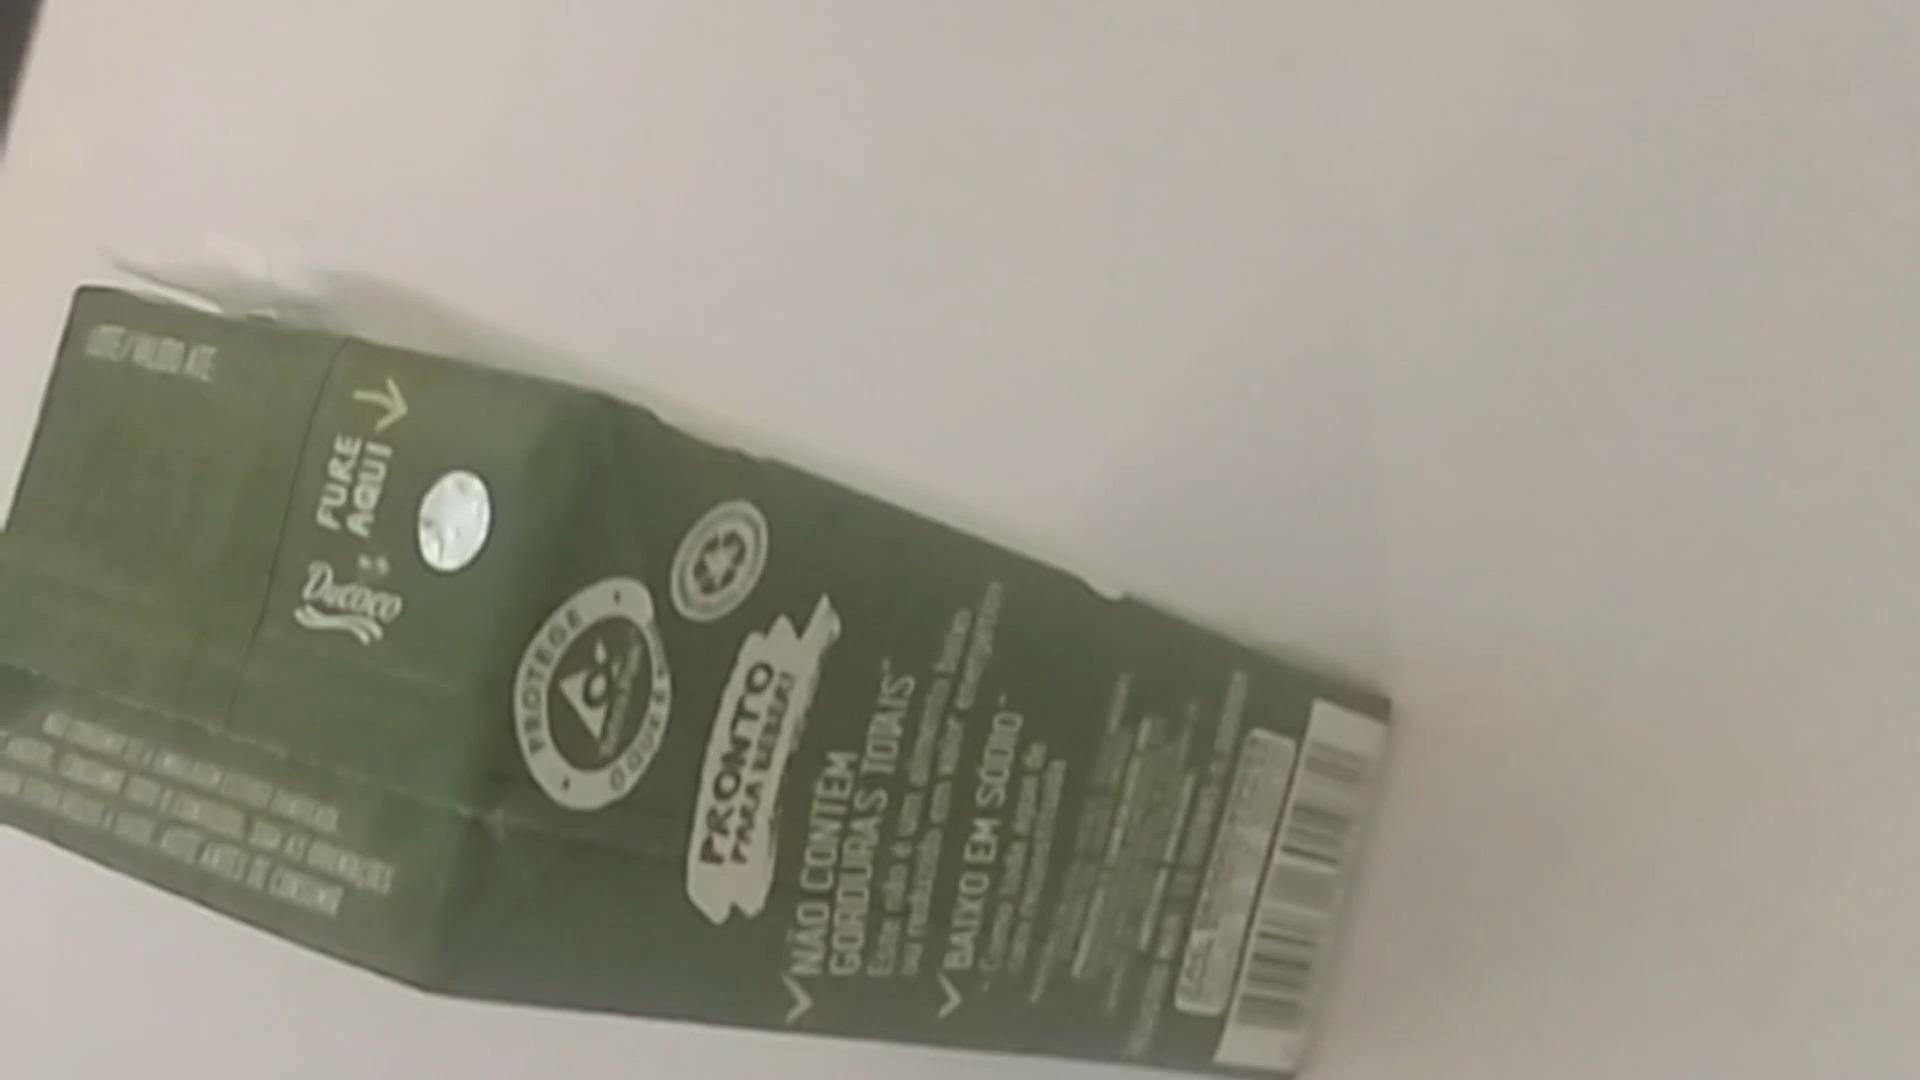coco: (0, 229, 1403, 1065)
